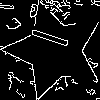I: (30, 25, 80, 53)
